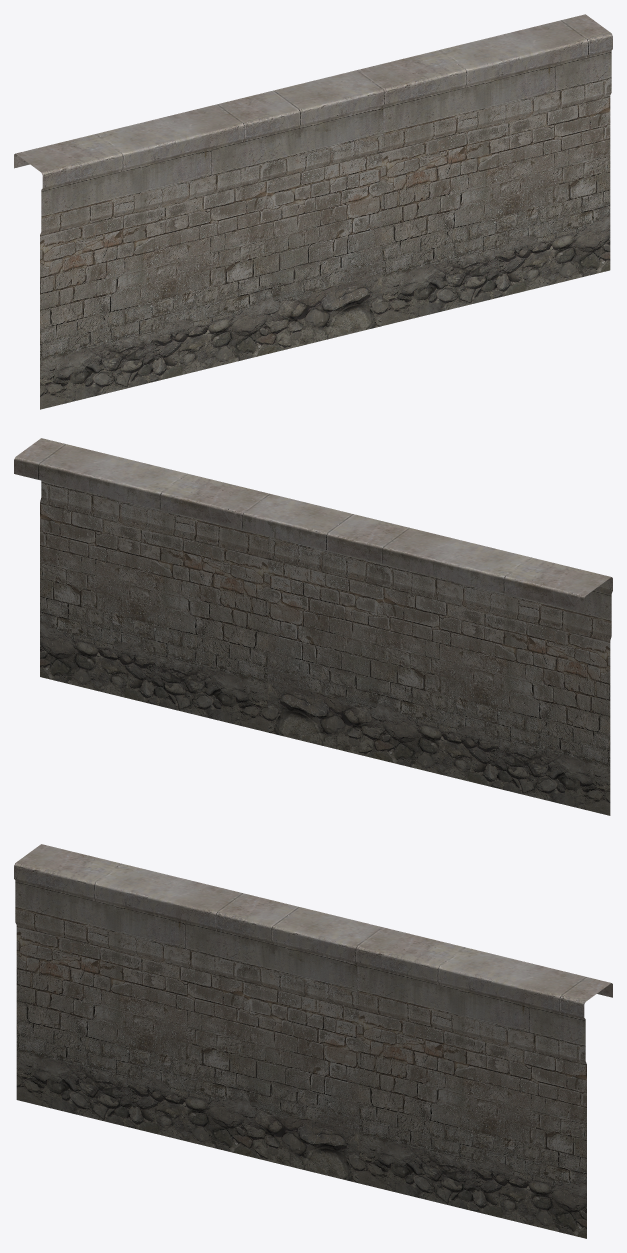
Rendered from Wall9.fbx.
3 views of the same model, one above another, from view 1: azimuth 30°, elevation 25°; view 2: azimuth 150°, elevation 25°; view 3: azimuth 330°, elevation 25° (orthographic).
Visible parts, largest first — view 1: LV_Campagna_Dock_DockWall10_SM_SVR; view 2: LV_Campagna_Dock_DockWall10_SM_SVR; view 3: LV_Campagna_Dock_DockWall10_SM_SVR.
Part boxes in pixels (box(x1,y1,x2,y2)): LV_Campagna_Dock_DockWall10_SM_SVR: box(14, 14, 612, 409); LV_Campagna_Dock_DockWall10_SM_SVR: box(14, 438, 612, 815); LV_Campagna_Dock_DockWall10_SM_SVR: box(14, 844, 612, 1238).
Size of the model in its own units: 4.81 by 1.92 by 0.4231.
Materials: 1 (1 with a texture image).
